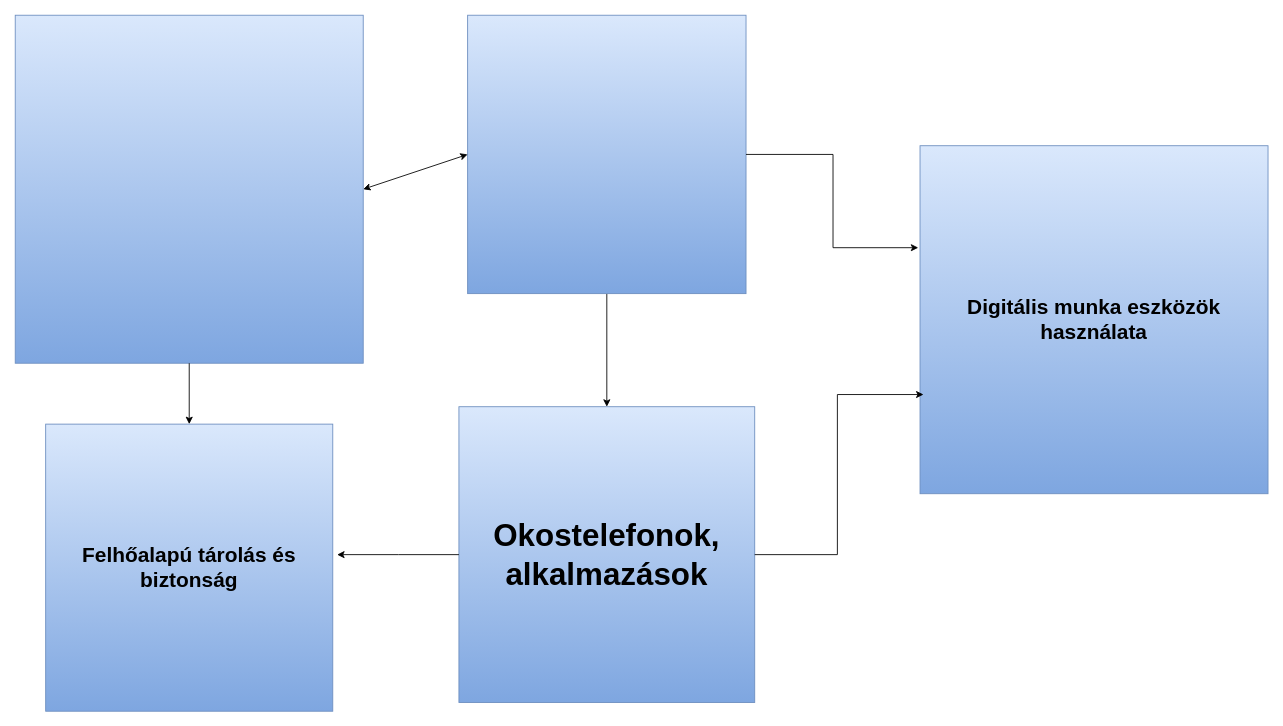
This 1283x726 diagram has some shape labels left out. Each missing label, with the centre of its shape:
"Alap vető számítástechnikai ismeretek" goes at point (188, 188).
"Digitális eszközök használata" goes at point (606, 154).
